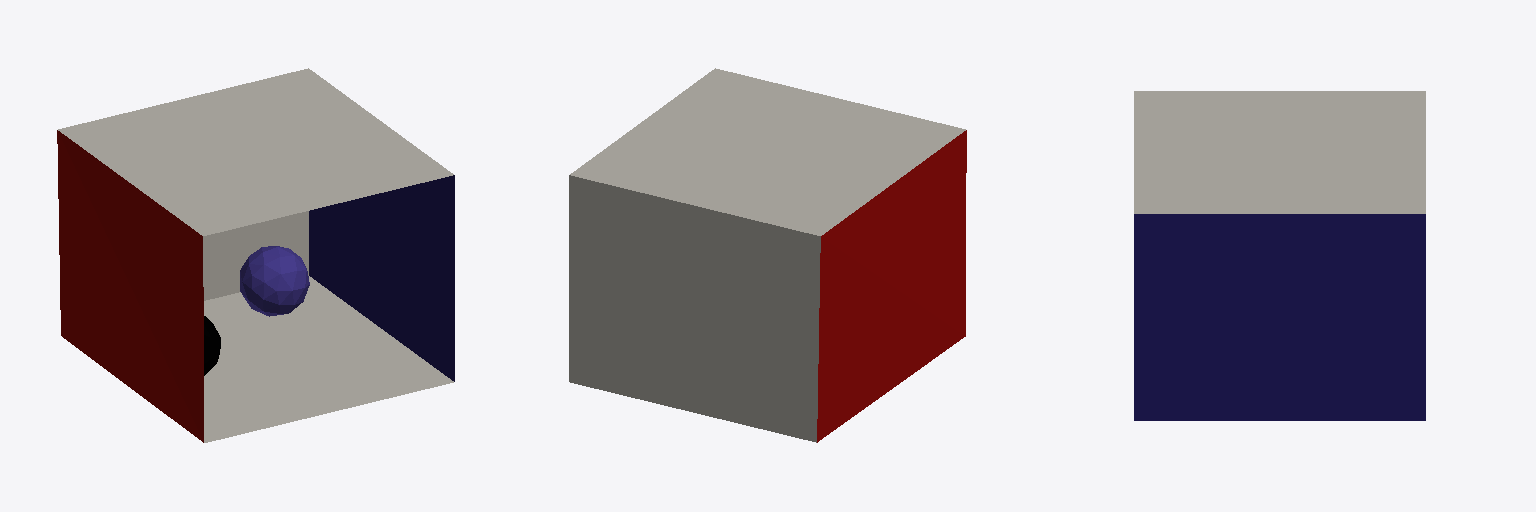
File: CornellBox-Sphere-496.obj
3 renders of one model, left to right at view 1: azimuth 30°, elevation 25°; view 2: azimuth 150°, elevation 25°; view 3: azimuth 270°, elevation 25°, orthographic.
Parts seen in each view (by area): view 1: ceiling, leftWall, floor, rightWall, backWall, leftSphere, rightSphere; view 2: backWall, ceiling, leftWall; view 3: rightWall, ceiling.
Part boxes in pixels (x1,y1,x2,y2): ceiling: (58, 68, 453, 235); leftWall: (57, 130, 203, 442); floor: (204, 276, 453, 442); rightWall: (309, 175, 454, 381); backWall: (203, 211, 308, 300); leftSphere: (240, 246, 309, 316); rightSphere: (204, 316, 220, 375); backWall: (569, 175, 820, 442); ceiling: (570, 68, 965, 235); leftWall: (817, 130, 966, 442); rightWall: (1134, 214, 1425, 420); ceiling: (1134, 91, 1425, 213).
Bounding box in the file's own units: 2.02 × 1.59 × 2.03.